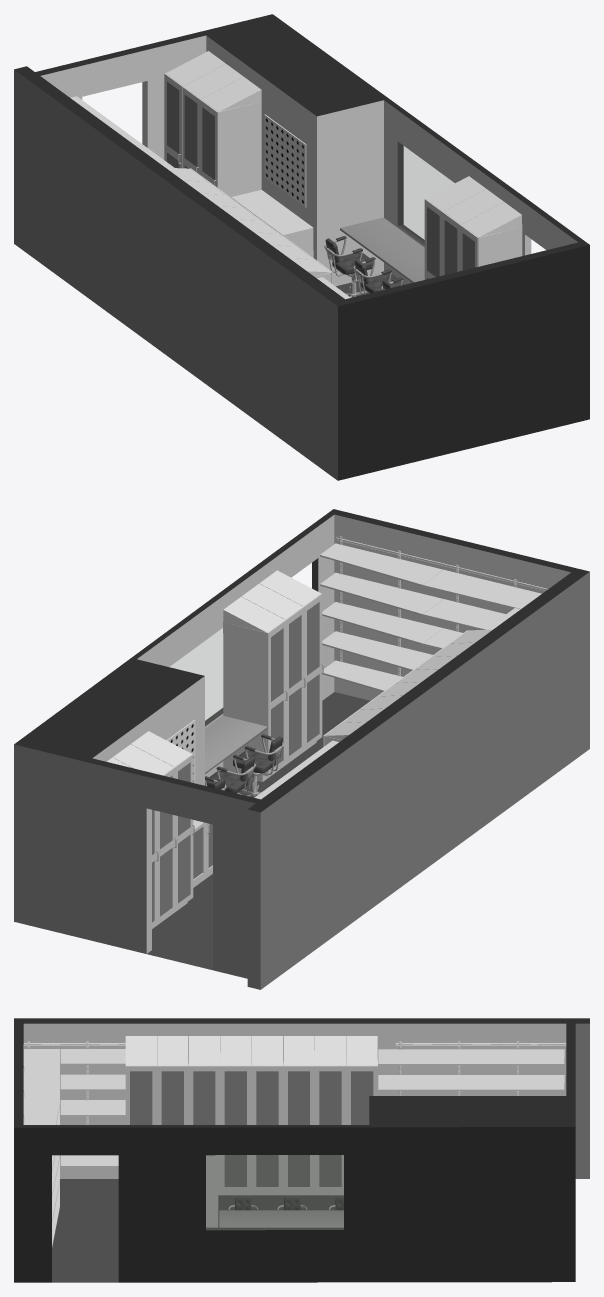
The picture shows the model from 3 angles, top to bottom: view 1: azimuth 30°, elevation 25°; view 2: azimuth 150°, elevation 25°; view 3: azimuth 270°, elevation 25°; orthographic projection. The views are drawn at different scales.
Visible parts, largest first — view 1: Plane.003, Cube.045, Cube.044, Cube.093, Cube.043, 5087-bump.002, Cube.095, prim2.005, prim2.006, Cube.047; view 2: Plane.003, Cube.044, Cube.090, Cube.045, Cube.043, Cube.093, prim2.007, Cube.095, Cube.089, prim2.006, 5087-bump.002; view 3: Plane.003, Cube.043, Cube.047, Cube.024, Cube.090, Cube.093, Cube.044, Cube.046, Cube.091.
Boxes of the visible parts, left/top/right/bottom form: Plane.003: left=14, top=14, right=589, bottom=480; Cube.045: left=164, top=51, right=261, bottom=197; Cube.044: left=424, top=176, right=522, bottom=279; Cube.093: left=340, top=217, right=424, bottom=282; Cube.043: left=166, top=167, right=332, bottom=284; 5087-bump.002: left=264, top=114, right=306, bottom=207; Cube.095: left=231, top=190, right=313, bottom=257; prim2.005: left=324, top=236, right=373, bottom=297; prim2.006: left=353, top=257, right=403, bottom=294; Cube.047: left=70, top=96, right=174, bottom=167; Plane.003: left=14, top=509, right=589, bottom=989; Cube.044: left=223, top=570, right=323, bottom=781; Cube.090: left=320, top=543, right=541, bottom=691; Cube.045: left=107, top=731, right=194, bottom=928; Cube.043: left=323, top=629, right=492, bottom=746; Cube.093: left=205, top=716, right=267, bottom=773; prim2.007: left=233, top=734, right=283, bottom=796; Cube.095: left=193, top=820, right=212, bottom=887; Cube.089: left=336, top=536, right=547, bottom=680; prim2.006: left=206, top=754, right=255, bottom=794; 5087-bump.002: left=166, top=720, right=195, bottom=783; Plane.003: left=14, top=1018, right=589, bottom=1282; Cube.043: left=125, top=1036, right=377, bottom=1195; Cube.047: left=378, top=1049, right=564, bottom=1090; Cube.024: left=60, top=1049, right=125, bottom=1167; Cube.090: left=24, top=1049, right=59, bottom=1247; Cube.093: left=219, top=1210, right=343, bottom=1227; Cube.044: left=206, top=1155, right=218, bottom=1227; Cube.046: left=395, top=1041, right=566, bottom=1095; Cube.091: left=24, top=1041, right=125, bottom=1167.
Size of the model in its own units: 7.58 by 5.03 by 16.85.
Materials: 17 (1 with a texture image).
